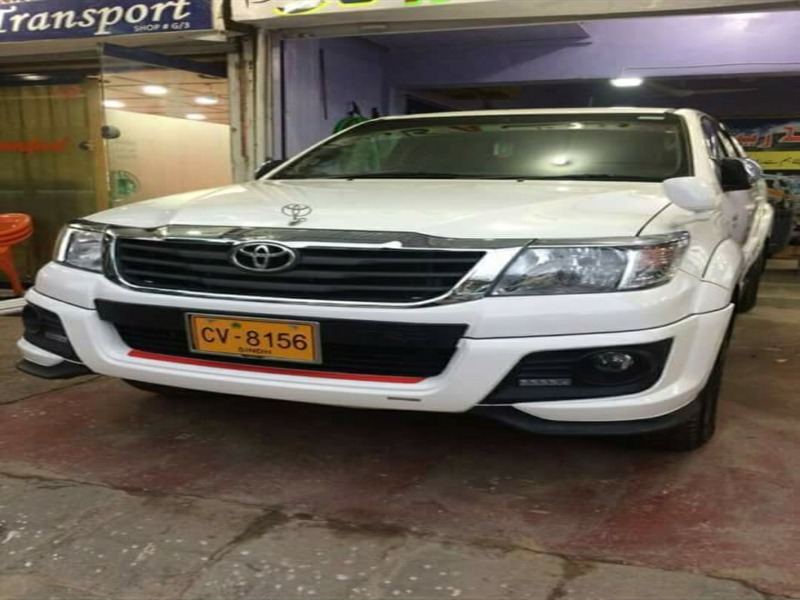License Plate: (179, 309, 325, 367)
